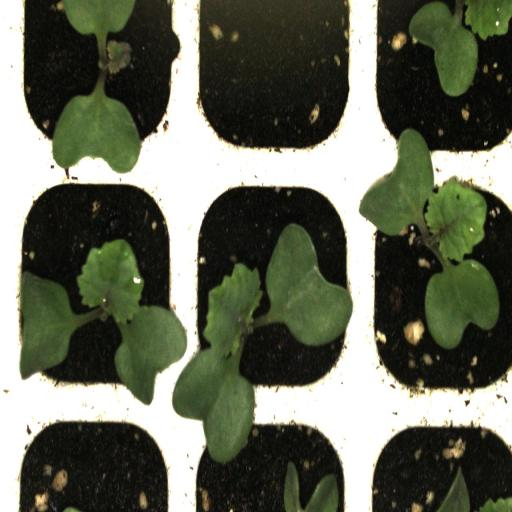noseedling: (187, 0, 363, 164)
seedling: (6, 168, 187, 415), (185, 168, 362, 410), (359, 169, 512, 411), (7, 0, 187, 166), (362, 1, 512, 168)
